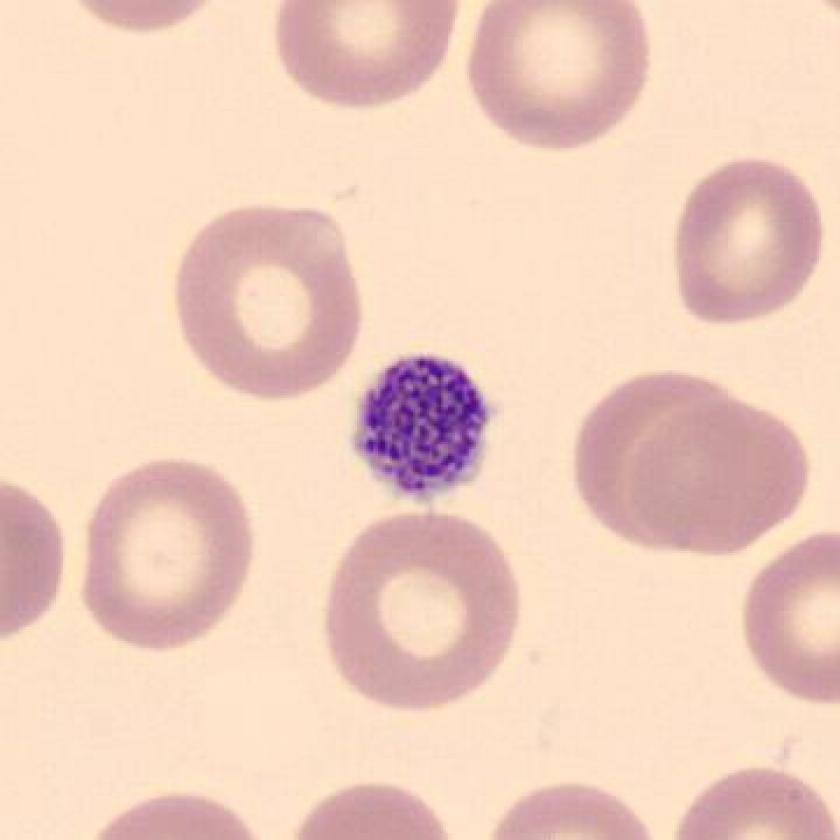platelets: (346, 348, 505, 513)
